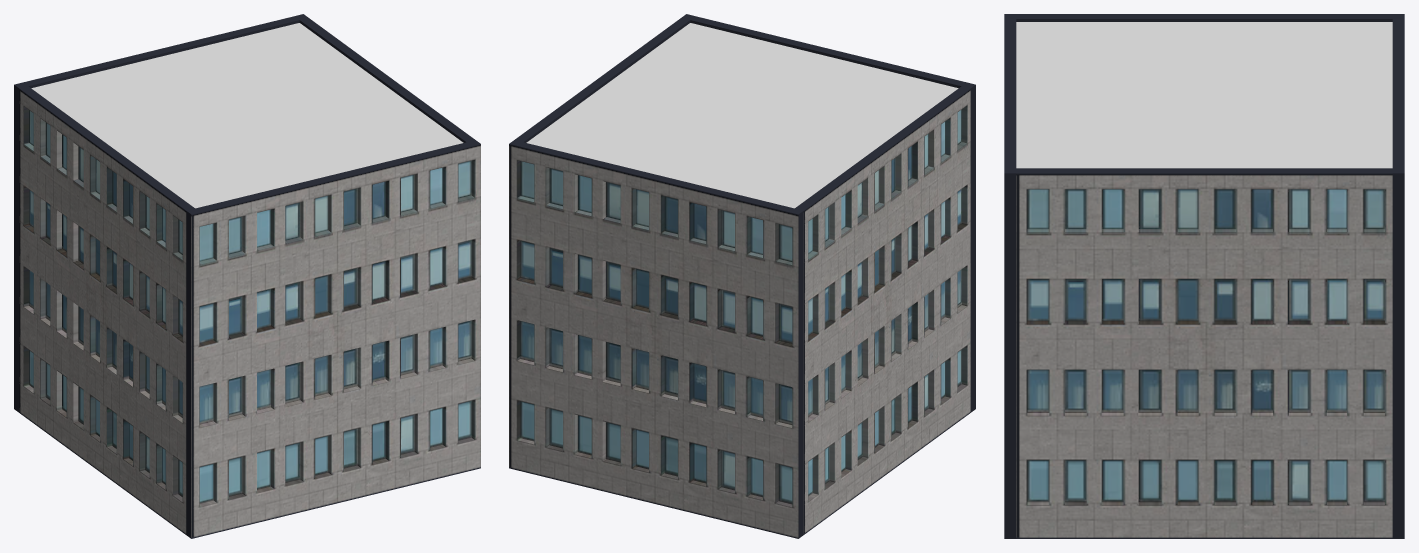
File: Bulding.glb
3 renders of one model, left to right at view 1: azimuth 30°, elevation 25°; view 2: azimuth 150°, elevation 25°; view 3: azimuth 270°, elevation 25°, orthographic. The views are drawn at different scales.
Parts seen in each view (by area): view 1: Plane, Plane.002, Plane.004, Plane.003, Plane.001; view 2: Plane.003, Plane.002, Plane.004, Plane, Plane.001; view 3: Plane.001, Plane.004, Plane, Plane.003, Plane.002.
Part boxes in pixels (bbox=[...]): Plane: bbox=[186, 140, 480, 538]; Plane.002: bbox=[19, 86, 194, 534]; Plane.004: bbox=[31, 23, 463, 208]; Plane.003: bbox=[14, 14, 307, 412]; Plane.001: bbox=[299, 17, 474, 142]; Plane.003: bbox=[509, 140, 803, 538]; Plane.002: bbox=[795, 86, 970, 534]; Plane.004: bbox=[526, 23, 958, 208]; Plane: bbox=[681, 14, 975, 412]; Plane.001: bbox=[514, 18, 690, 142]; Plane.001: bbox=[1016, 168, 1392, 538]; Plane.004: bbox=[1016, 22, 1392, 168]; Plane: bbox=[1004, 14, 1016, 538]; Plane.003: bbox=[1392, 14, 1404, 538]; Plane.002: bbox=[1016, 14, 1392, 21].
Size of the model in its own units: 3.73 by 3.99 by 3.96.
1 material, 1 textured.
